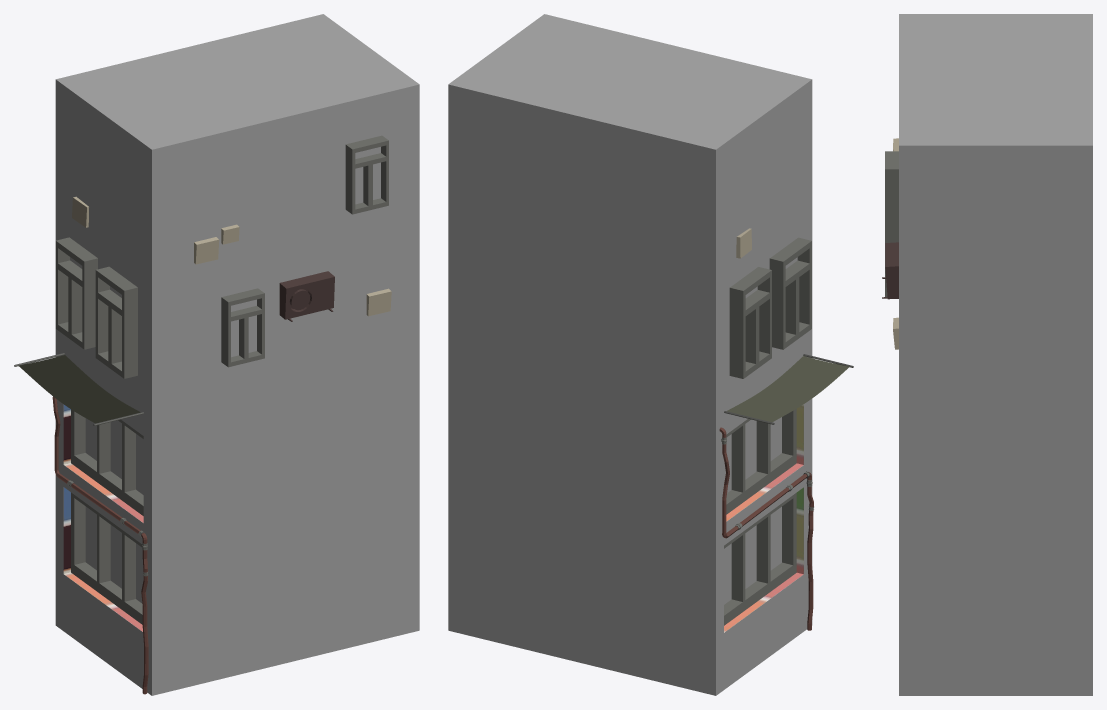
Rendered from Building_03.fbx.
3 renders of one model, left to right at view 1: azimuth 30°, elevation 25°; view 2: azimuth 150°, elevation 25°; view 3: azimuth 270°, elevation 25°, orthographic.
Parts seen in each view (by area): view 1: polySurface1206, polySurface916, polySurface966, polySurface915, polySurface951, polySurface917, polySurface898, polySurface894, polySurface899, polySurface965, polySurface961; view 2: polySurface1206, polySurface916, polySurface966, polySurface951, polySurface915, polySurface917, polySurface965, polySurface961; view 3: polySurface1206, polySurface898, polySurface899.
Boxes of the visible parts, x1,y1,x2,y2 form: polySurface1206: [55, 14, 419, 695]; polySurface916: [71, 492, 143, 624]; polySurface966: [71, 409, 143, 515]; polySurface915: [95, 266, 137, 378]; polySurface951: [55, 237, 97, 349]; polySurface917: [19, 355, 140, 423]; polySurface898: [345, 135, 388, 214]; polySurface894: [221, 288, 264, 367]; polySurface899: [279, 271, 334, 321]; polySurface965: [52, 396, 140, 533]; polySurface961: [141, 533, 148, 694]; polySurface1206: [448, 14, 812, 695]; polySurface916: [724, 493, 796, 625]; polySurface966: [724, 409, 796, 514]; polySurface951: [729, 267, 771, 378]; polySurface915: [769, 237, 811, 349]; polySurface917: [726, 356, 849, 422]; polySurface965: [719, 427, 807, 538]; polySurface961: [807, 472, 813, 630]; polySurface1206: [899, 14, 1092, 695]; polySurface898: [885, 151, 898, 234]; polySurface899: [882, 242, 898, 299].
Size of the model in its own units: 49.87 by 82.08 by 28.48.
